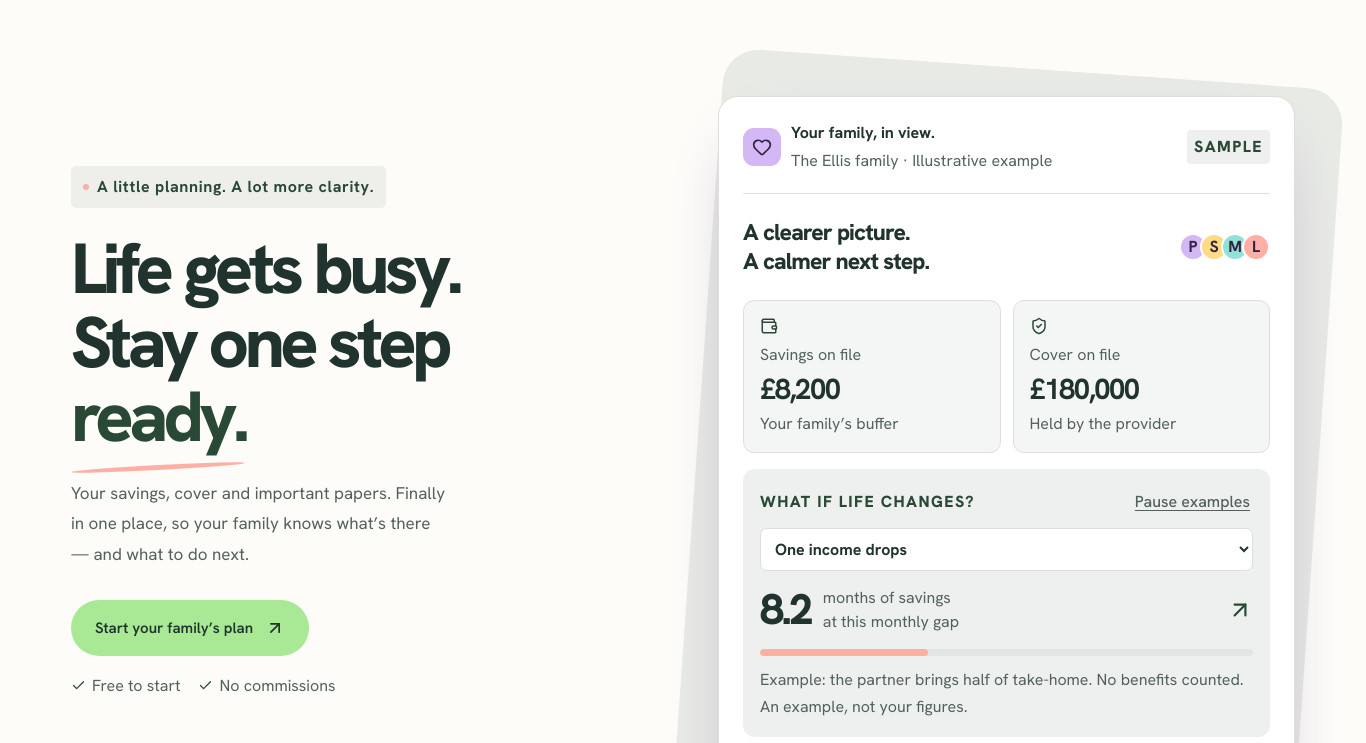
Scenario: LandingHero › lets people inspect a different scenario with its actual sample assumptions
Select "Income stops" in the dropdown named "Choose a sample scenario" at (1006, 549), box x1=760 y1=528 x2=1253 y2=570
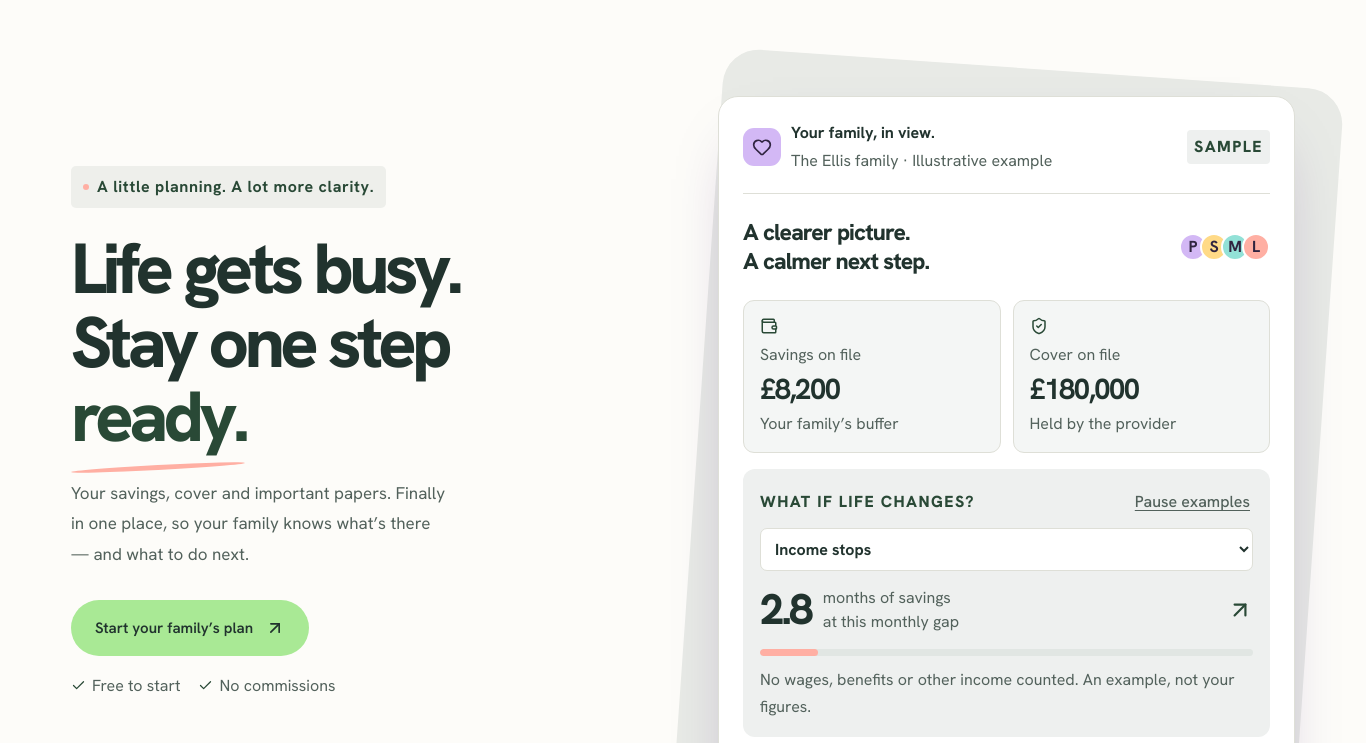
Check: the text "No wages, benefits or other income counted" is shown, box x1=760 y1=668 x2=1078 y2=690
